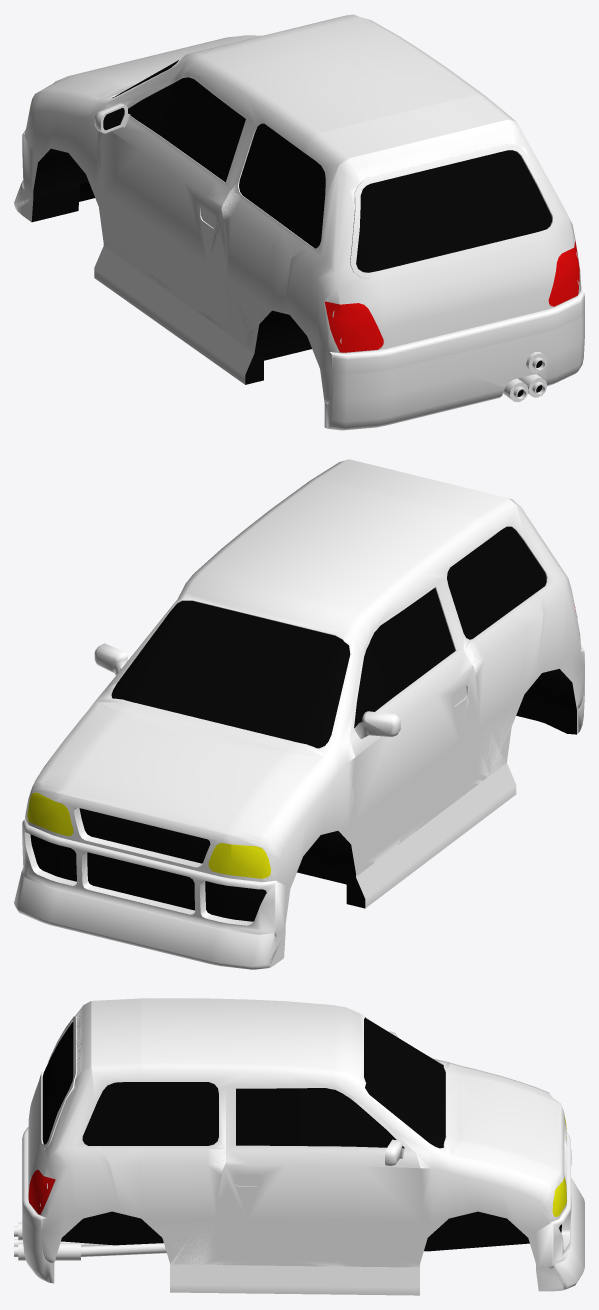
File: DAIHATSU MIRA 1998 (2X-FACES).fbx
The picture shows the model from 3 angles, top to bottom: view 1: azimuth 30°, elevation 25°; view 2: azimuth 150°, elevation 25°; view 3: azimuth 270°, elevation 25°; orthographic projection. The views are drawn at different scales.
Parts seen in each view (by area): view 1: BODY STOCK, L DOOR, BODY WIDEBOI, TAILLIGHTS GLASS, HOOD; view 2: BODY STOCK, L DOOR, HOOD, BODY WIDEBOI, HEADLIGHTS GLASS, R DOOR; view 3: BODY STOCK, R DOOR, BODY WIDEBOI, HOOD, TAILLIGHTS GLASS, HEADLIGHTS GLASS.
Boxes of the visible parts, bbox=[...] form: BODY STOCK: bbox=[21, 14, 584, 404]; L DOOR: bbox=[94, 73, 252, 322]; BODY WIDEBOI: bbox=[14, 181, 584, 430]; TAILLIGHTS GLASS: bbox=[324, 241, 579, 352]; HOOD: bbox=[42, 35, 262, 97]; BODY STOCK: bbox=[21, 459, 584, 936]; L DOOR: bbox=[350, 579, 479, 861]; HOOD: bbox=[41, 703, 319, 840]; BODY WIDEBOI: bbox=[14, 672, 584, 969]; HEADLIGHTS GLASS: bbox=[27, 792, 270, 878]; R DOOR: bbox=[94, 643, 127, 674]; BODY STOCK: bbox=[14, 998, 572, 1269]; R DOOR: bbox=[216, 1085, 422, 1260]; BODY WIDEBOI: bbox=[14, 1178, 584, 1295]; HOOD: bbox=[451, 1065, 560, 1184]; TAILLIGHTS GLASS: bbox=[28, 1170, 55, 1214]; HEADLIGHTS GLASS: bbox=[552, 1114, 566, 1216].
Bounding box in the file's own units: 323 × 260 × 640.
